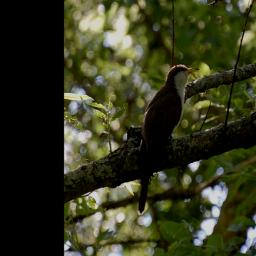Cuckoo: (134, 63, 200, 217)
